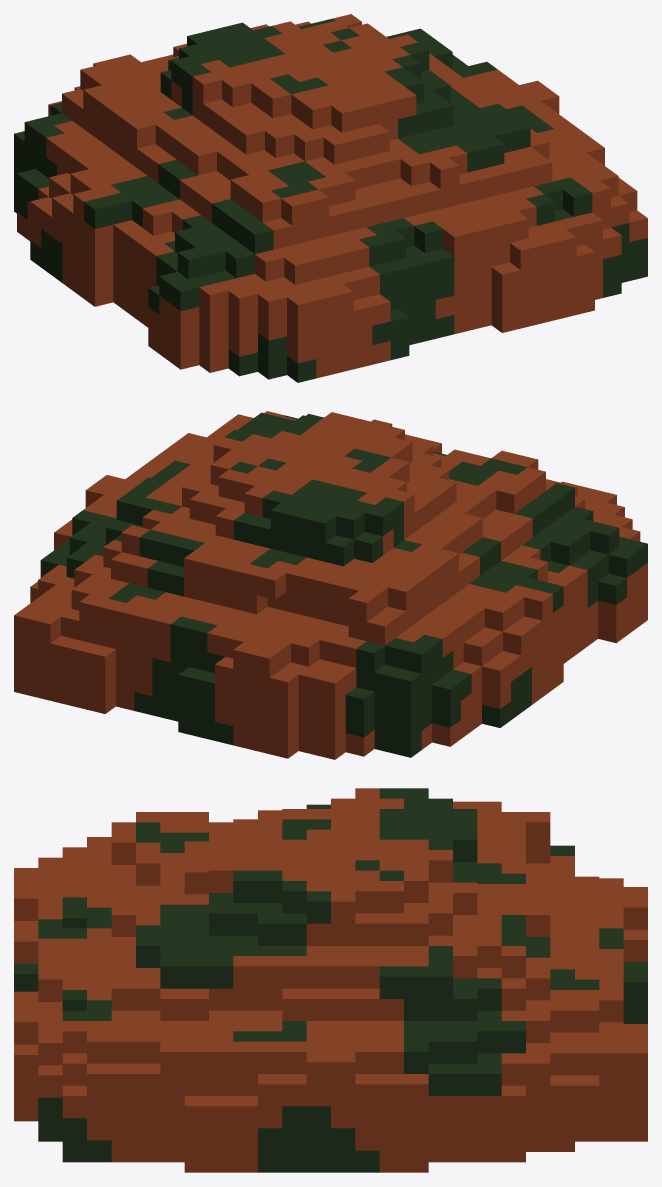
Rendered from tree -0.obj.
The picture shows the model from 3 angles, top to bottom: view 1: azimuth 30°, elevation 25°; view 2: azimuth 150°, elevation 25°; view 3: azimuth 270°, elevation 25°; orthographic projection. The views are drawn at different scales.
Size of the model in its own units: 2.5 by 1 by 2.6.
1 material, 1 textured.
